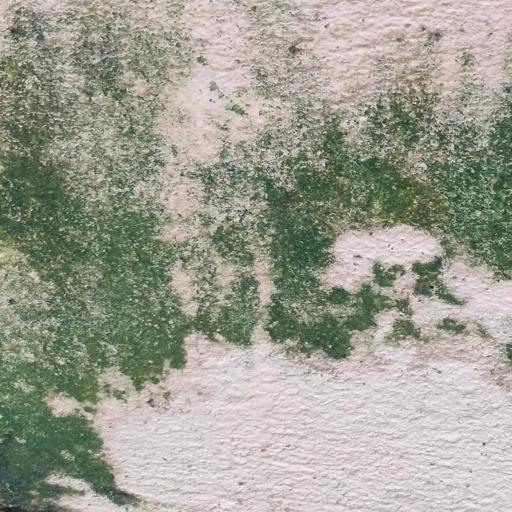algae: (0, 0, 511, 434)
